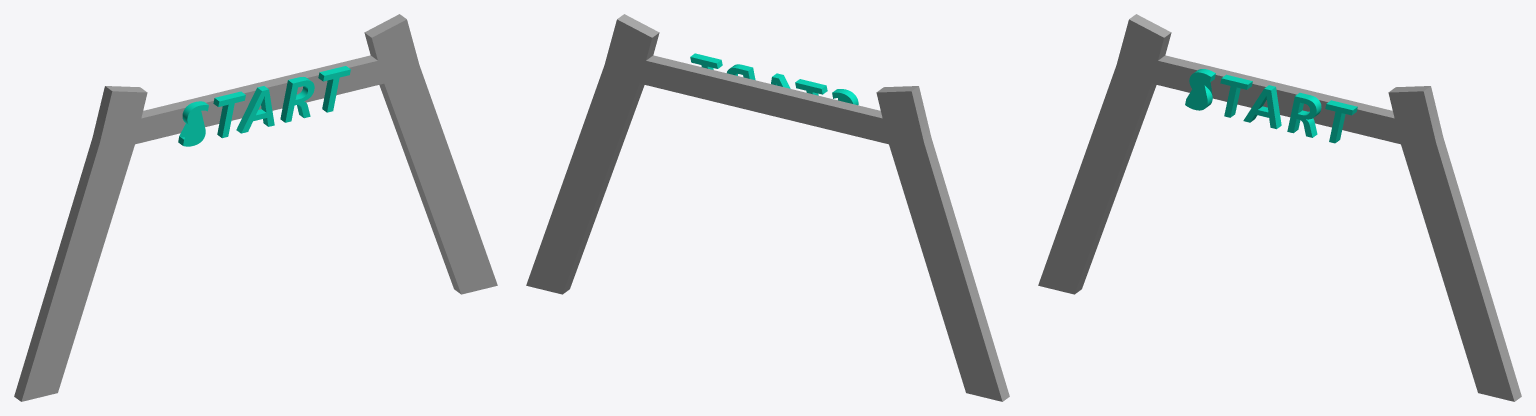
File: Start.fbx
3 views of the same model, side by side, from view 1: azimuth 30°, elevation 25°; view 2: azimuth 150°, elevation 25°; view 3: azimuth 330°, elevation 25° (orthographic).
Visible parts, largest first — view 1: Finishpoint, Text; view 2: Finishpoint, Text; view 3: Finishpoint, Text.
Boxes of the visible parts, x1,y1,x2,y2 form: Finishpoint: [14, 14, 497, 401]; Text: [178, 66, 350, 146]; Finishpoint: [526, 14, 1009, 401]; Text: [690, 53, 858, 105]; Finishpoint: [1038, 14, 1521, 401]; Text: [1185, 69, 1357, 143].
Bounding box in the file's own units: 4383 × 2536 × 234.
